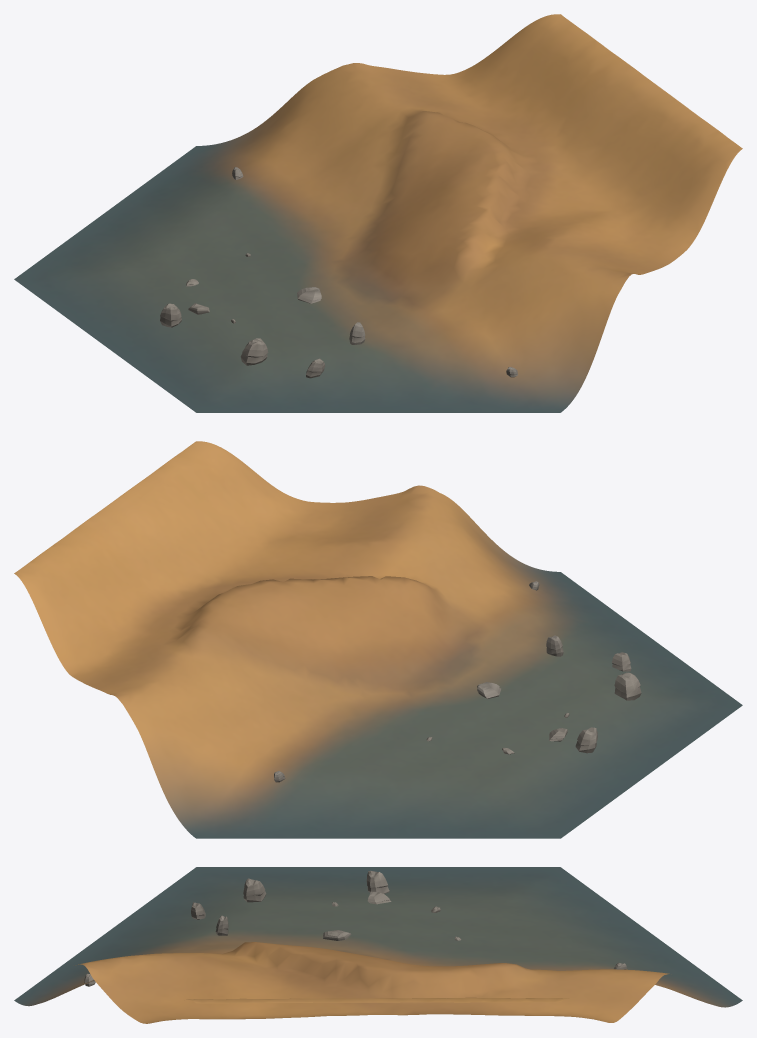
The model's file is costa_-04_+08.glb.
The picture shows the model from 3 angles, top to bottom: view 1: azimuth 30°, elevation 25°; view 2: azimuth 150°, elevation 25°; view 3: azimuth 270°, elevation 25°; orthographic projection.
Parts seen in each view (by area): view 1: terrain, Formações costeiras; view 2: terrain, Formações costeiras; view 3: terrain, Formações costeiras.
Boxes of the visible parts, x1,y1,x2,y2 form: terrain: (14, 14, 742, 412); Formações costeiras: (160, 167, 517, 378); terrain: (14, 441, 742, 838); Formações costeiras: (274, 581, 641, 782); terrain: (14, 867, 742, 1023); Formações costeiras: (84, 870, 626, 986).
Size of the model in its own units: 4330 by 998 by 5000.
1 material, 1 textured.
